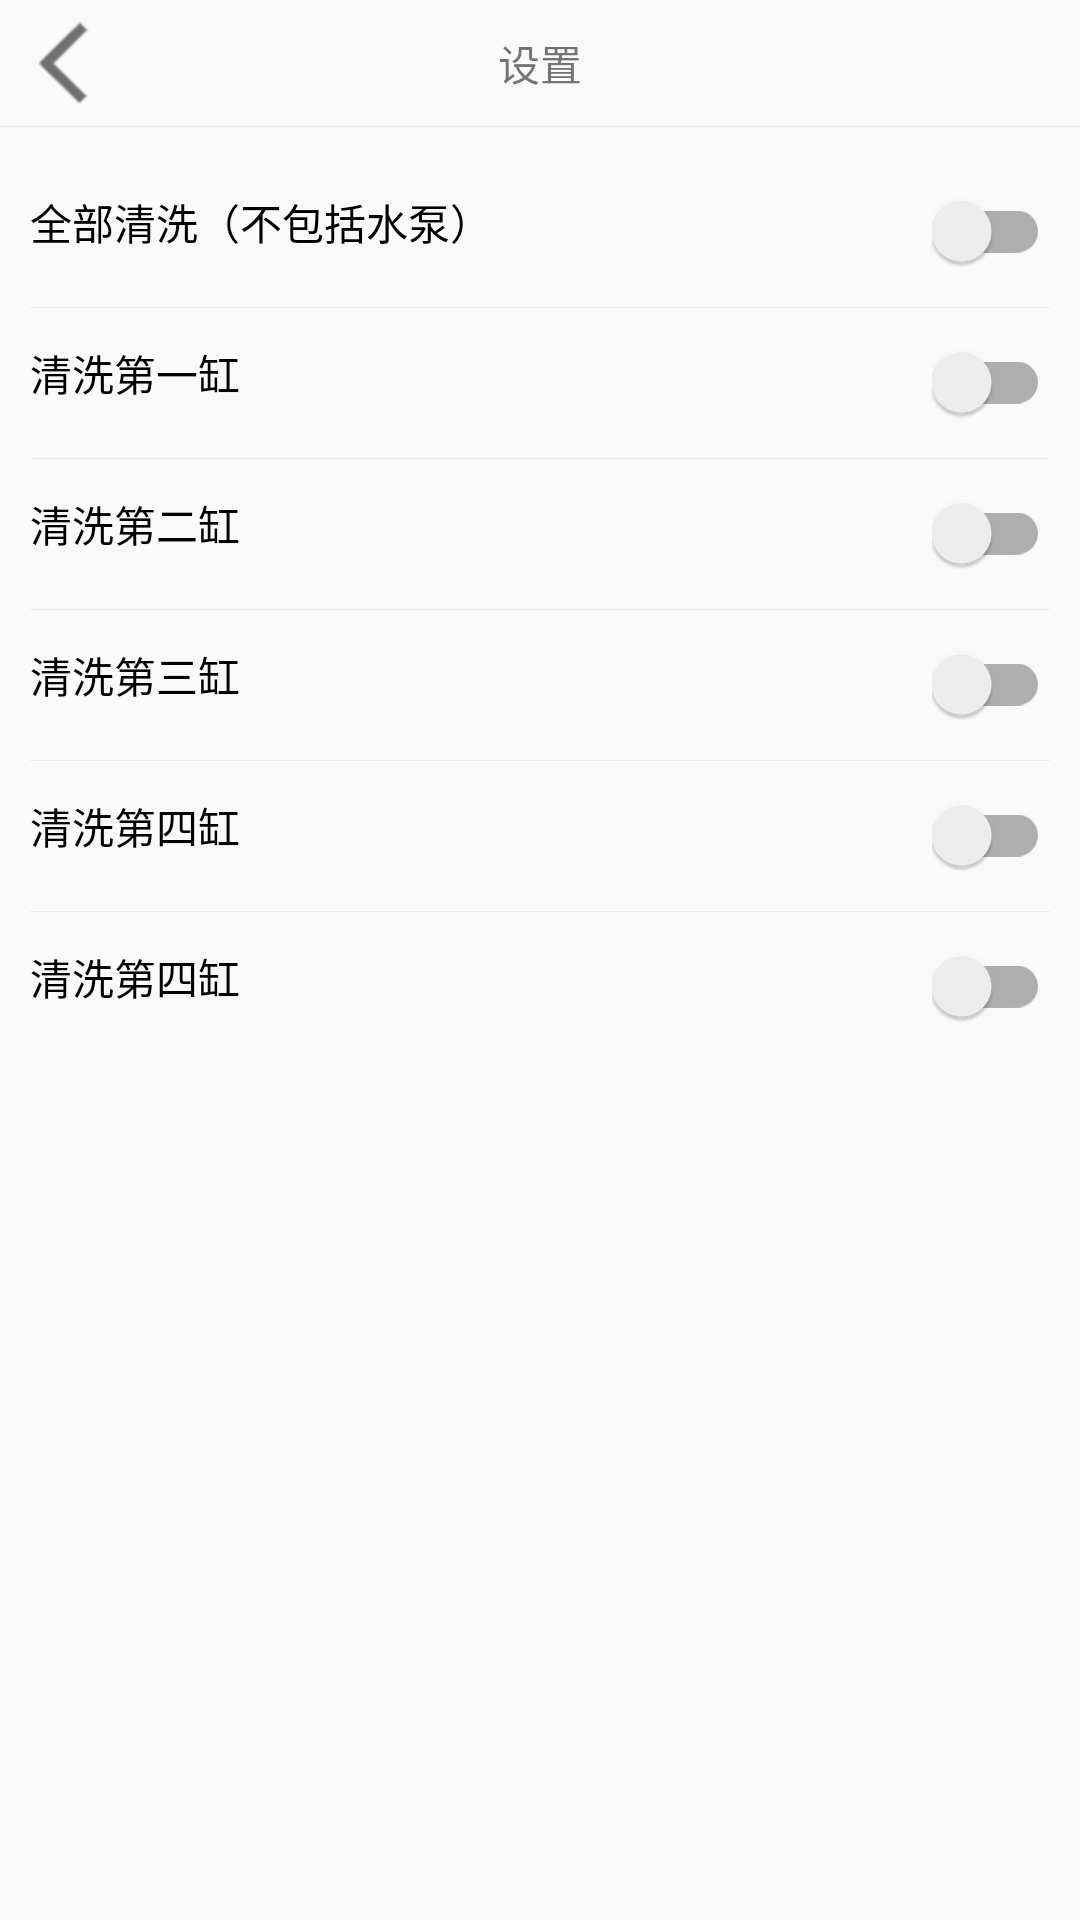

Screen size 1080w x 1920h. Icon name, then its center in pixels as [x,y]:
back: [63,62]
